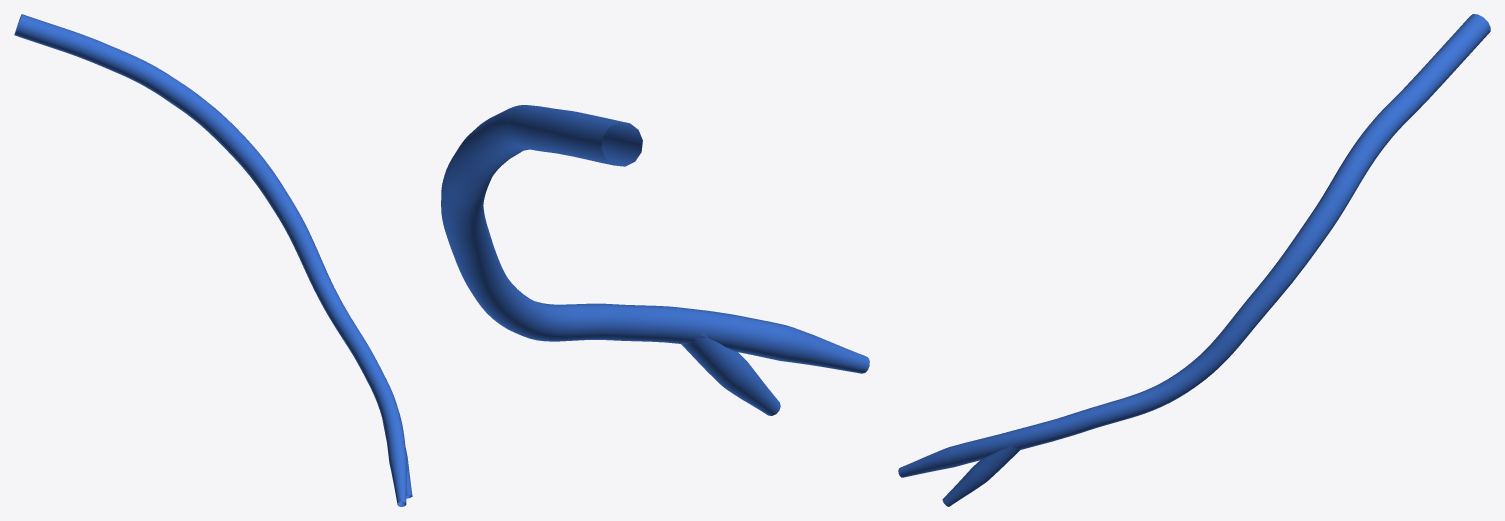
The model's file is circulatorio-inferior-lingular-artery-of-left-lung.glb.
3 renders of one model, left to right at view 1: azimuth 30°, elevation 25°; view 2: azimuth 150°, elevation 25°; view 3: azimuth 270°, elevation 25°, orthographic. The views are drawn at different scales.
Parts seen in each view (by area): view 1: Inferior lingular artery of left lung; view 2: Inferior lingular artery of left lung; view 3: Inferior lingular artery of left lung.
Part boxes in pixels (x1,y1,x2,y2): Inferior lingular artery of left lung: (14,14,412,506); Inferior lingular artery of left lung: (441,105,869,415); Inferior lingular artery of left lung: (898,14,1490,506).
Size of the model in its own units: 0.0502 by 0.086 by 0.1141.
